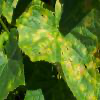Tomato mold leaf: (14, 4, 99, 99)
